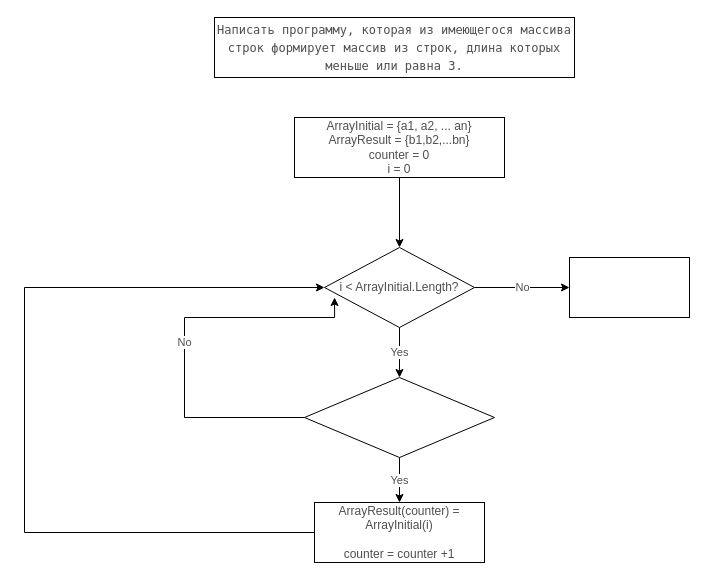
The diagram is 707 pixels wide and 580 high, and some of its shapes have lost their labels. Here are the shapes that lost their labels. From the top down, the centre of each, then its label:
At point 629,287: "Print ArrayResult".
At point 399,417: "ArrayInitial(i).Length < 3?".
